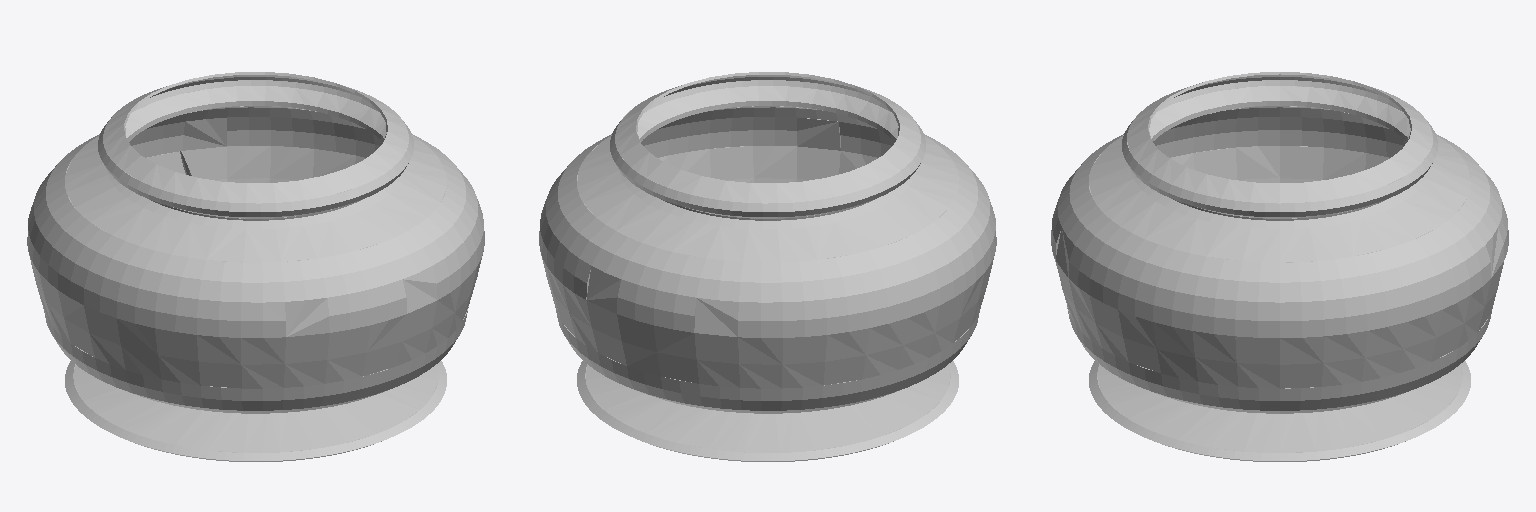
The model's file is FishAndBowl.obj.
3 views of the same model, side by side, from view 1: azimuth 30°, elevation 25°; view 2: azimuth 150°, elevation 25°; view 3: azimuth 270°, elevation 25° (orthographic).
Visible parts, largest first — view 1: FishBowl; view 2: FishBowl; view 3: FishBowl.
Part boxes in pixels (x1,y1,x2,y2): FishBowl: (27,72,484,461); FishBowl: (539,72,996,461); FishBowl: (1051,72,1508,461).
Size of the model in its own units: 25.15 by 15.57 by 25.16.